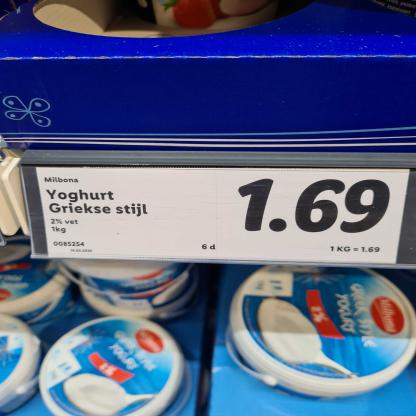prtg: (36, 168, 410, 264)
